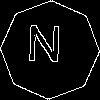N: (25, 25, 63, 72)
